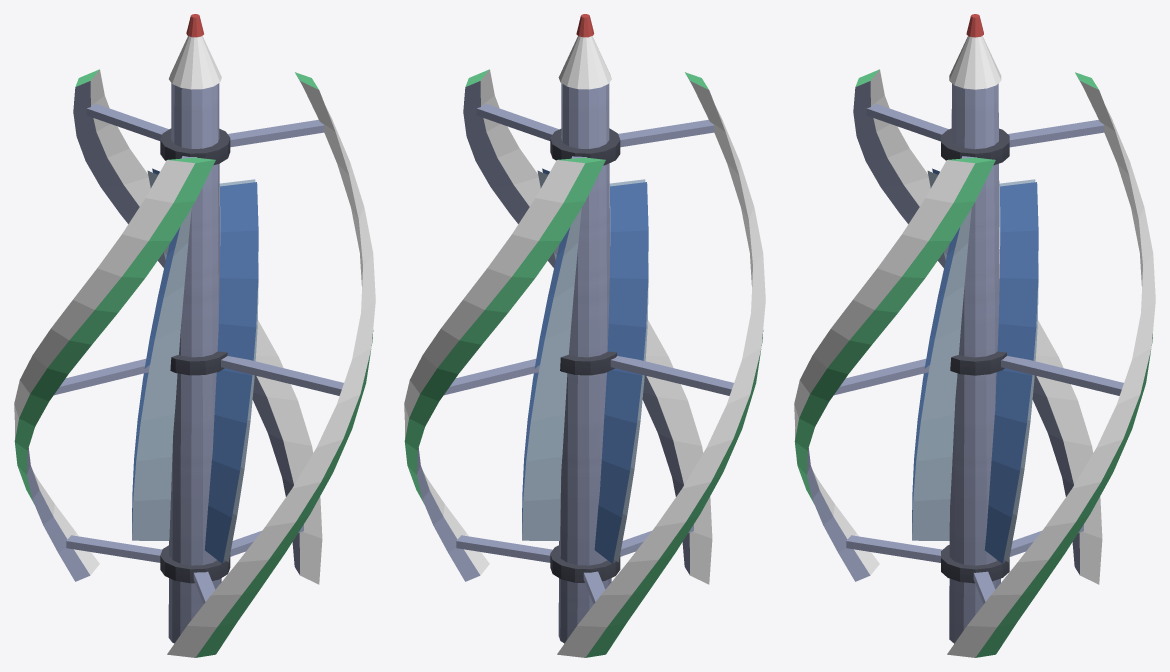
The model's file is wind_vawt_rotor.glb.
The picture shows the model from 3 angles, left to right: view 1: azimuth 30°, elevation 25°; view 2: azimuth 150°, elevation 25°; view 3: azimuth 270°, elevation 25°; orthographic projection.
Parts seen in each view (by area): view 1: Rotor; view 2: Rotor; view 3: Rotor.
Boxes of the visible parts, x1,y1,x2,y2 form: Rotor: (14, 14, 375, 657); Rotor: (404, 14, 765, 657); Rotor: (794, 14, 1155, 657).
Bounding box in the file's own units: 1.24 × 2.43 × 1.29.
1 material, 1 textured.
